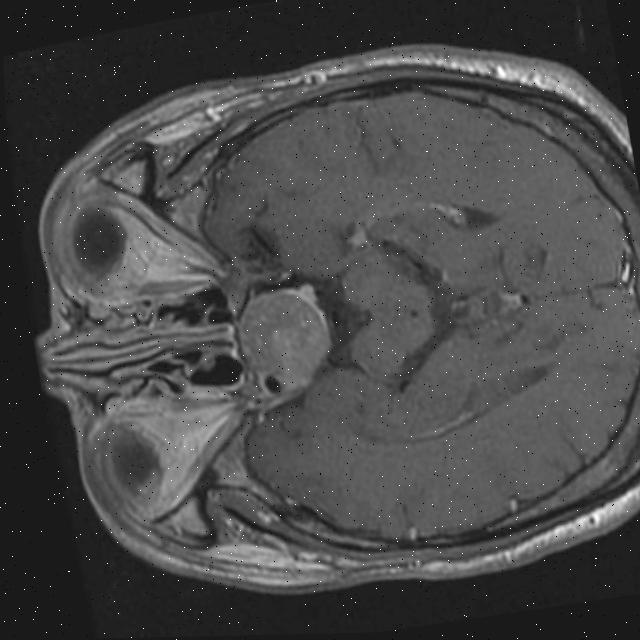Pituitary: (228, 280, 335, 381)
